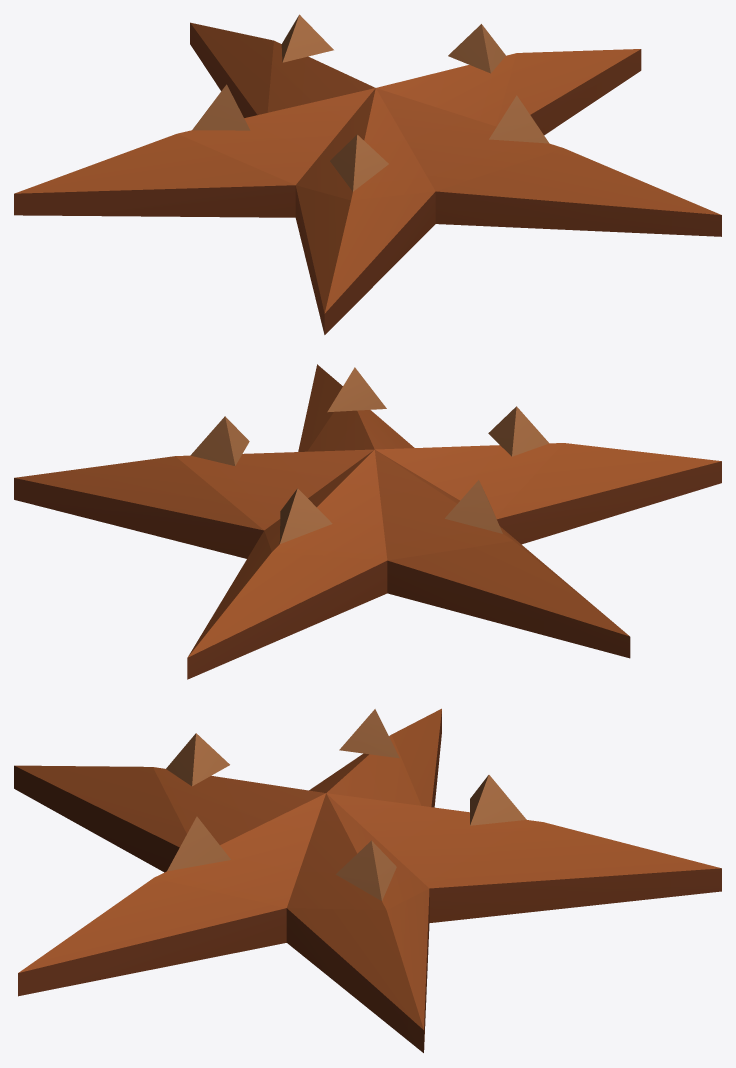
Rendered from custom-estrela-do-mar.glb.
3 renders of one model, top to bottom at view 1: azimuth 30°, elevation 25°; view 2: azimuth 150°, elevation 25°; view 3: azimuth 270°, elevation 25°, orthographic. The views are drawn at different scales.
Visible parts, largest first — view 1: estrela-do-mar; view 2: estrela-do-mar; view 3: estrela-do-mar.
Boxes of the visible parts, left/top/right/bottom form: estrela-do-mar: left=14, top=14, right=721, bottom=334; estrela-do-mar: left=14, top=364, right=721, bottom=679; estrela-do-mar: left=14, top=708, right=721, bottom=1052.
Bounding box in the file's own units: 0.5968 × 0.1013 × 0.5545.
